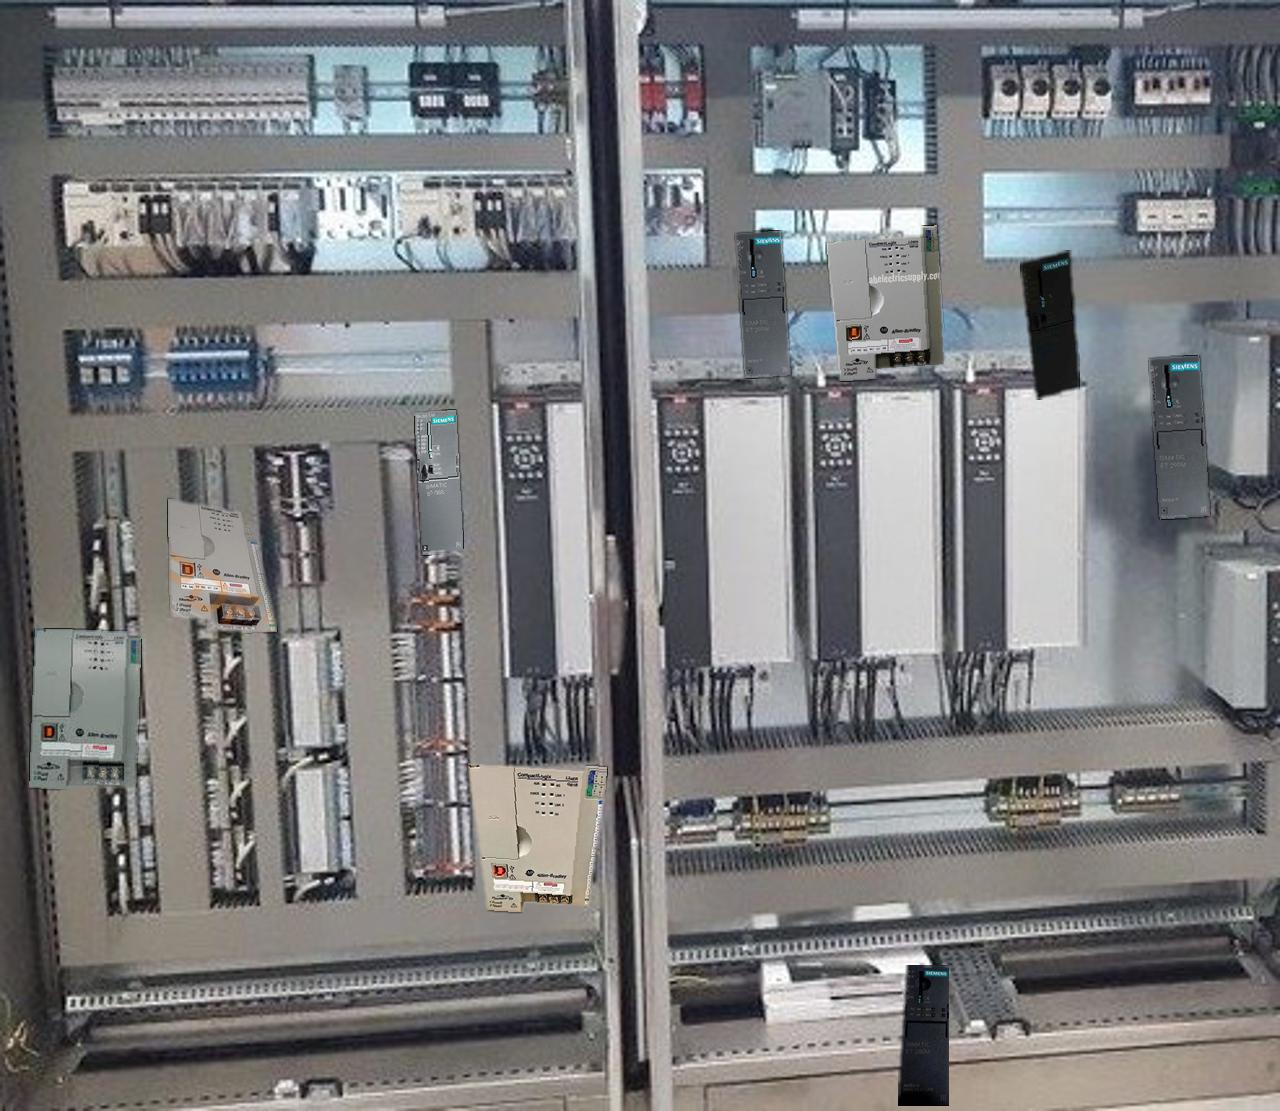AllenBradley: (468, 764, 606, 911), (29, 628, 141, 788), (827, 225, 943, 380), (168, 499, 276, 631)
Siemens: (1021, 251, 1078, 398), (414, 410, 463, 554)
